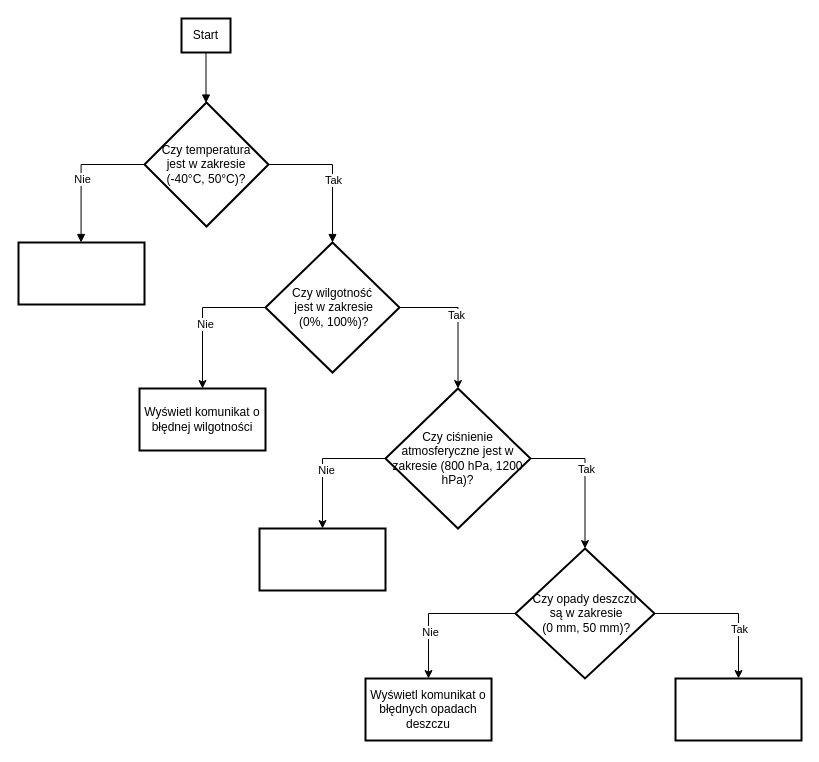
Some shapes in this 819 by 762 pixel diagram are drawn without their labels. Each missing label, with the centre of its shape:
Parametry są poprawne: [738,709]
Wyświetl komunikat o błędnej temperaturze: [81,273]
Wyświetl komunikat o błędnym ciśnieniu atmosferycznym: [322,559]
